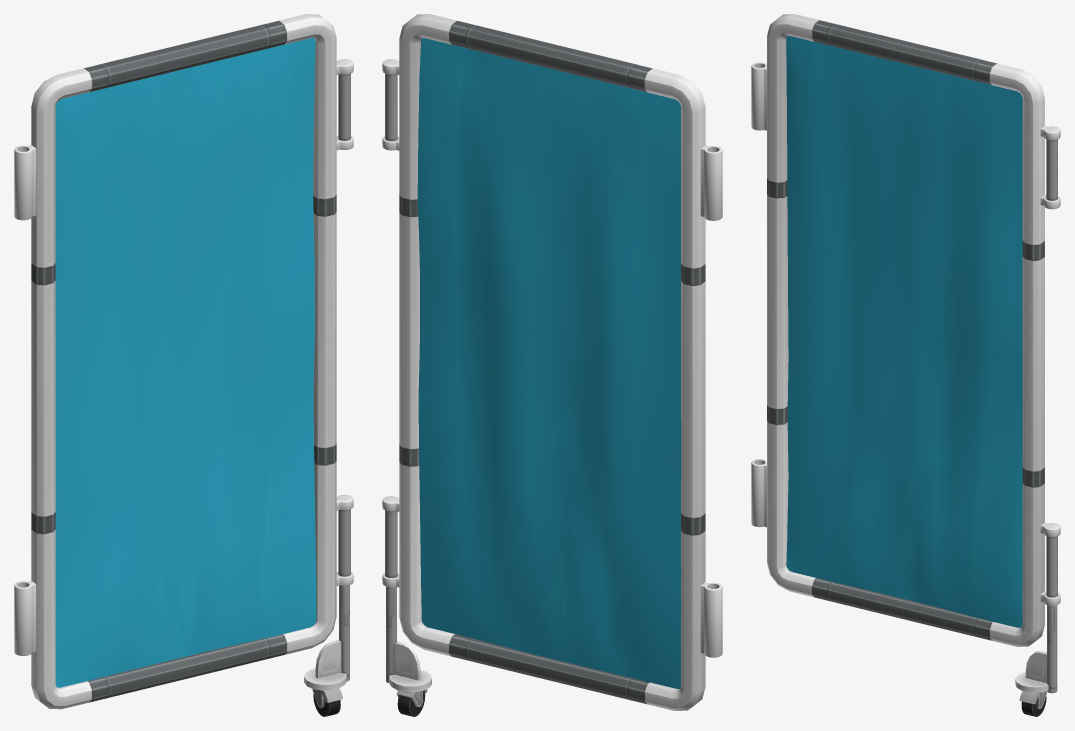
The model's file is MedDivider01_1.FBX.
3 views of the same model, side by side, from view 1: azimuth 30°, elevation 25°; view 2: azimuth 150°, elevation 25°; view 3: azimuth 330°, elevation 25° (orthographic). The views are drawn at different scales.
Visible parts, largest first — view 1: MedDivider01_1; view 2: MedDivider01_1; view 3: MedDivider01_1.
Boxes of the visible parts, x1,y1,x2,y2 form: MedDivider01_1: [14, 14, 353, 716]; MedDivider01_1: [382, 14, 722, 716]; MedDivider01_1: [751, 14, 1060, 716].
Size of what is drawn, in the model's own units: 1.05 by 2.09 by 0.1104.
